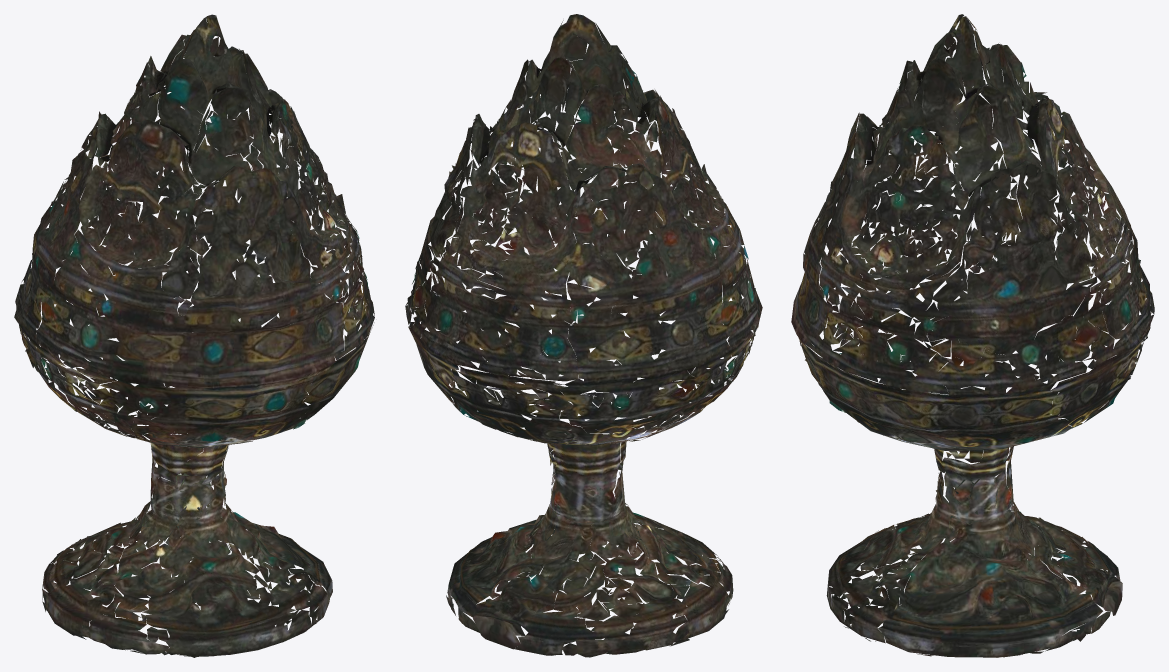
File: censer.glb
3 views of the same model, side by side, from view 1: azimuth 30°, elevation 25°; view 2: azimuth 150°, elevation 25°; view 3: azimuth 270°, elevation 25° (orthographic). The views are drawn at different scales.
Visible parts, largest first — view 1: Object_4; view 2: Object_4; view 3: Object_4.
Boxes of the visible parts, x1,y1,x2,y2 form: Object_4: (14,14,374,657); Object_4: (405,14,762,657); Object_4: (791,14,1154,657).
Size of the model in its own units: 0.1167 by 0.2099 by 0.1163.
1 material, 1 textured.
